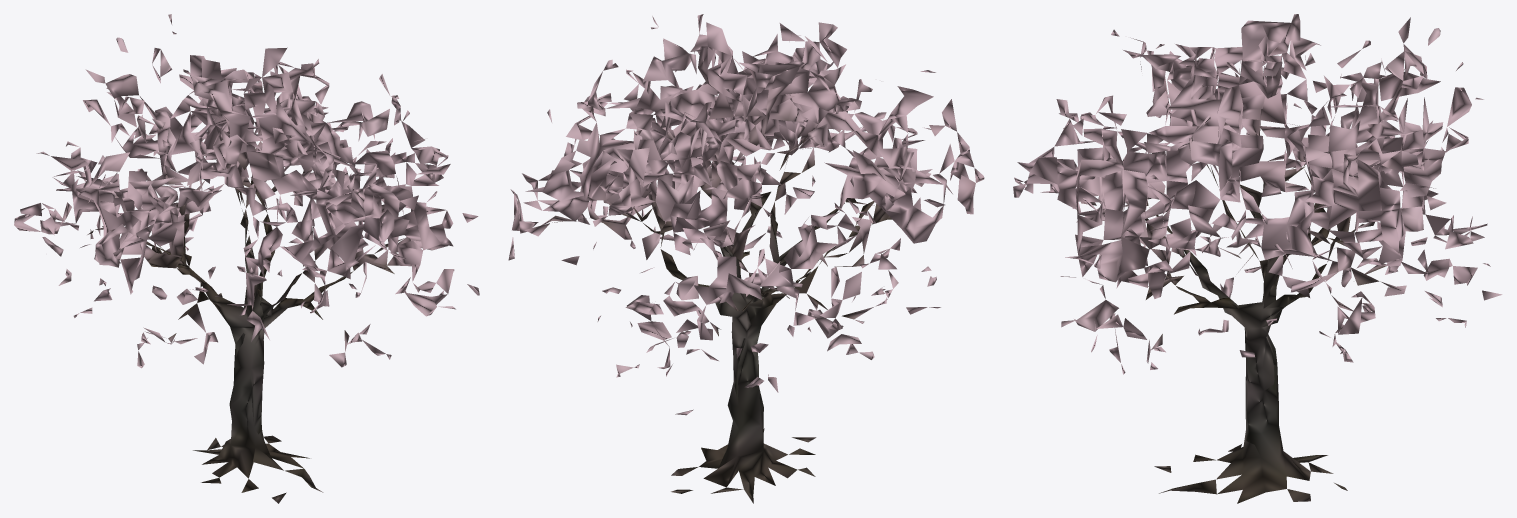
The model's file is sakura_a.2.glb.
3 views of the same model, side by side, from view 1: azimuth 30°, elevation 25°; view 2: azimuth 150°, elevation 25°; view 3: azimuth 270°, elevation 25° (orthographic). The views are drawn at different scales.
Parts seen in each view (by area): view 1: lod; view 2: lod; view 3: lod.
Boxes of the visible parts, x1,y1,x2,y2 form: lod: [14, 14, 479, 503]; lod: [508, 14, 984, 503]; lod: [1013, 14, 1502, 503].
Size of the model in its own units: 0.916 by 0.9727 by 0.9497.
